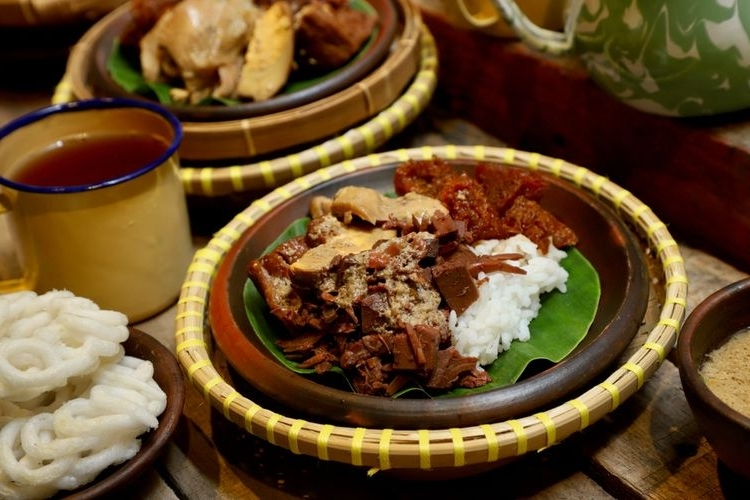gudeg: (244, 163, 579, 394)
